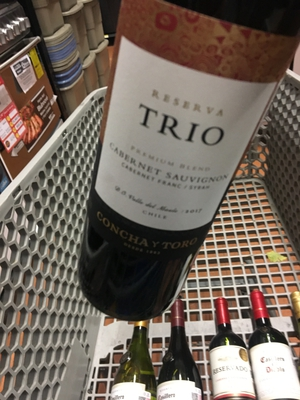trio cabernet sauvignon: (98, 2, 300, 317)
